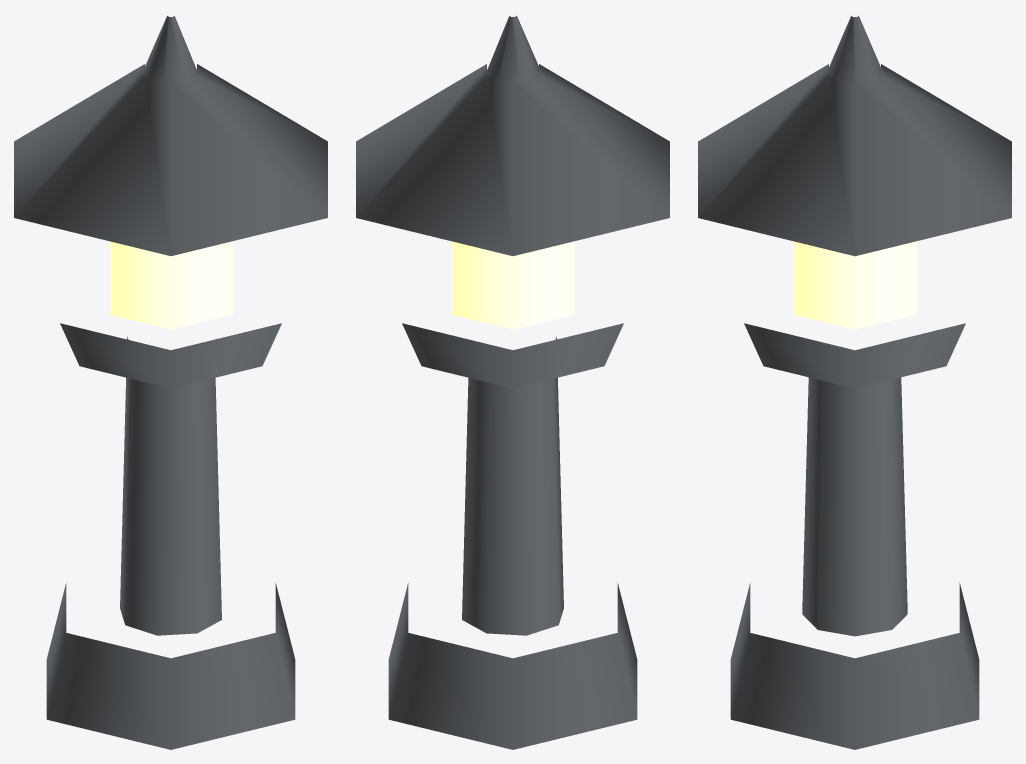
File: stone_lantern.glb
The picture shows the model from 3 angles, left to right: view 1: azimuth 30°, elevation 25°; view 2: azimuth 150°, elevation 25°; view 3: azimuth 270°, elevation 25°; orthographic projection.
Parts seen in each view (by area): view 1: stone_lantern; view 2: stone_lantern; view 3: stone_lantern.
Boxes of the visible parts, left/top/right/bottom form: stone_lantern: left=14, top=15, right=327, bottom=749; stone_lantern: left=356, top=15, right=669, bottom=749; stone_lantern: left=698, top=16, right=1011, bottom=749.
Size of the model in its own units: 0.96 by 1.97 by 0.8314.
